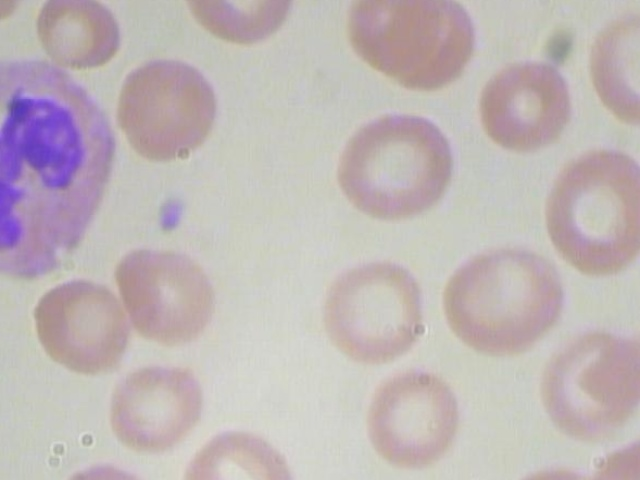Platelets: (145, 190, 188, 244)
RBC: (439, 247, 573, 361), (537, 144, 640, 282), (353, 358, 475, 473), (329, 109, 451, 223), (314, 256, 436, 370), (112, 48, 234, 162), (110, 242, 222, 355), (29, 266, 141, 378), (466, 54, 582, 159), (97, 352, 213, 456), (531, 328, 640, 433), (378, 0, 494, 88), (334, 0, 450, 76), (34, 0, 124, 76)
WBC: (0, 54, 118, 293)
